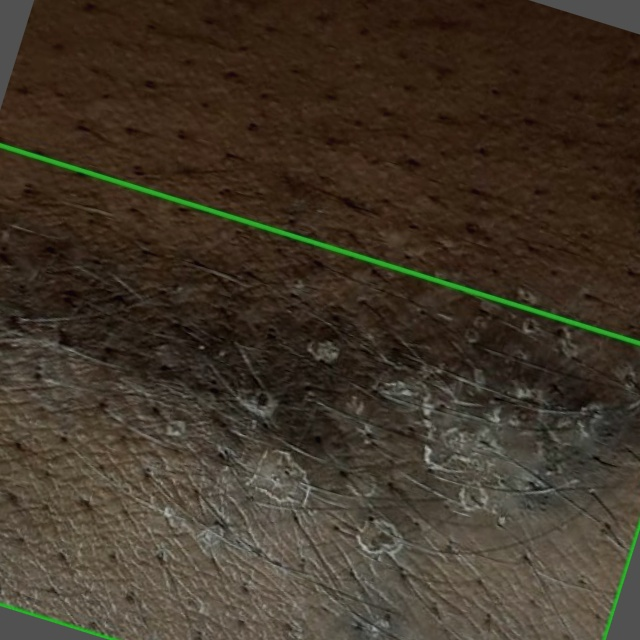Eczema: (0, 145, 639, 639)
